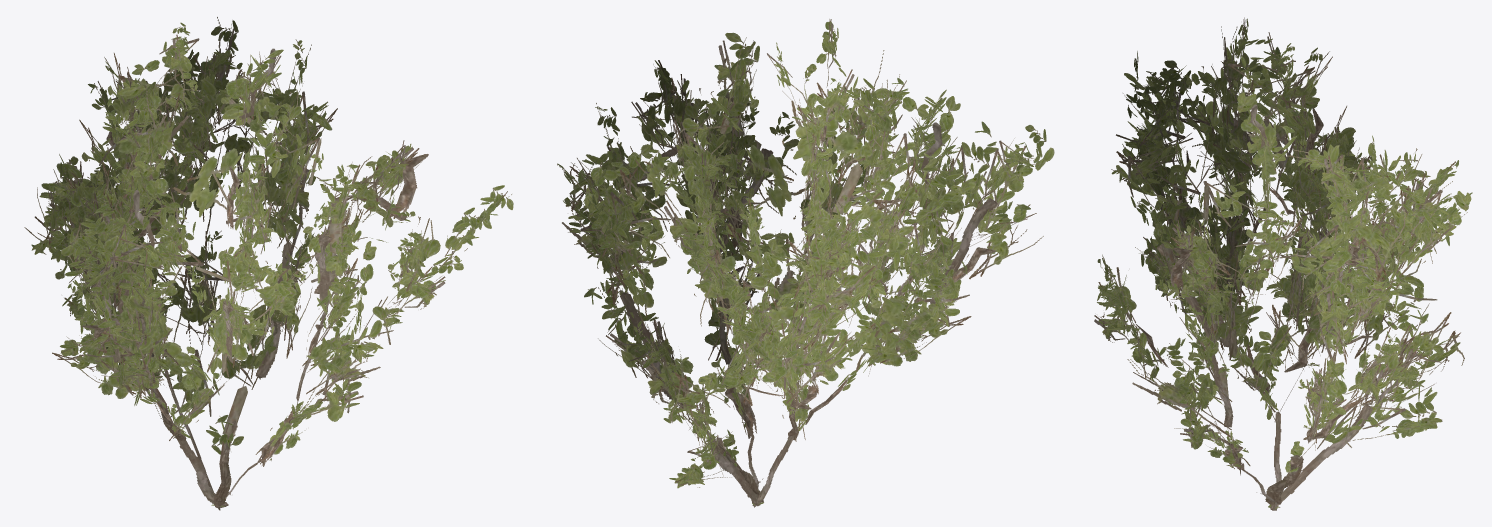
3 renders of one model, left to right at view 1: azimuth 30°, elevation 25°; view 2: azimuth 150°, elevation 25°; view 3: azimuth 270°, elevation 25°, orthographic. The views are drawn at different scales.
Visible parts, largest first — view 1: searsia_lucida__b_lod1; view 2: searsia_lucida__b_lod1; view 3: searsia_lucida__b_lod1.
Part boxes in pixels (left/top/right/bottom): searsia_lucida__b_lod1: left=24, top=17, right=513, bottom=510; searsia_lucida__b_lod1: left=557, top=19, right=1054, bottom=507; searsia_lucida__b_lod1: left=1094, top=17, right=1472, bottom=510.
Size of the model in its own units: 1.54 by 1.7 by 1.28.
Materials: 1 (1 with a texture image).
